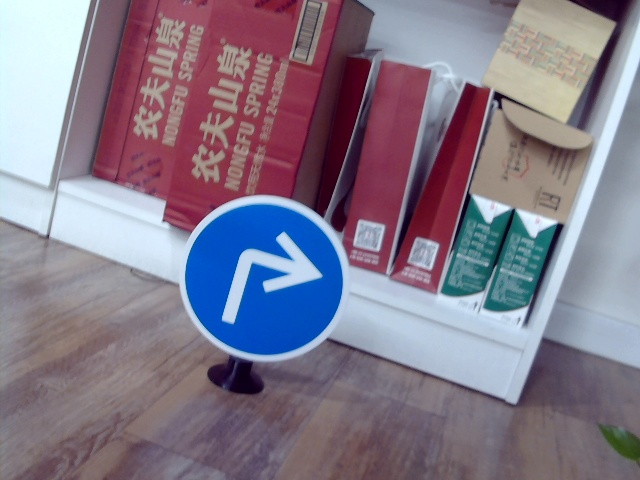turn_right: (217, 225, 321, 333)
